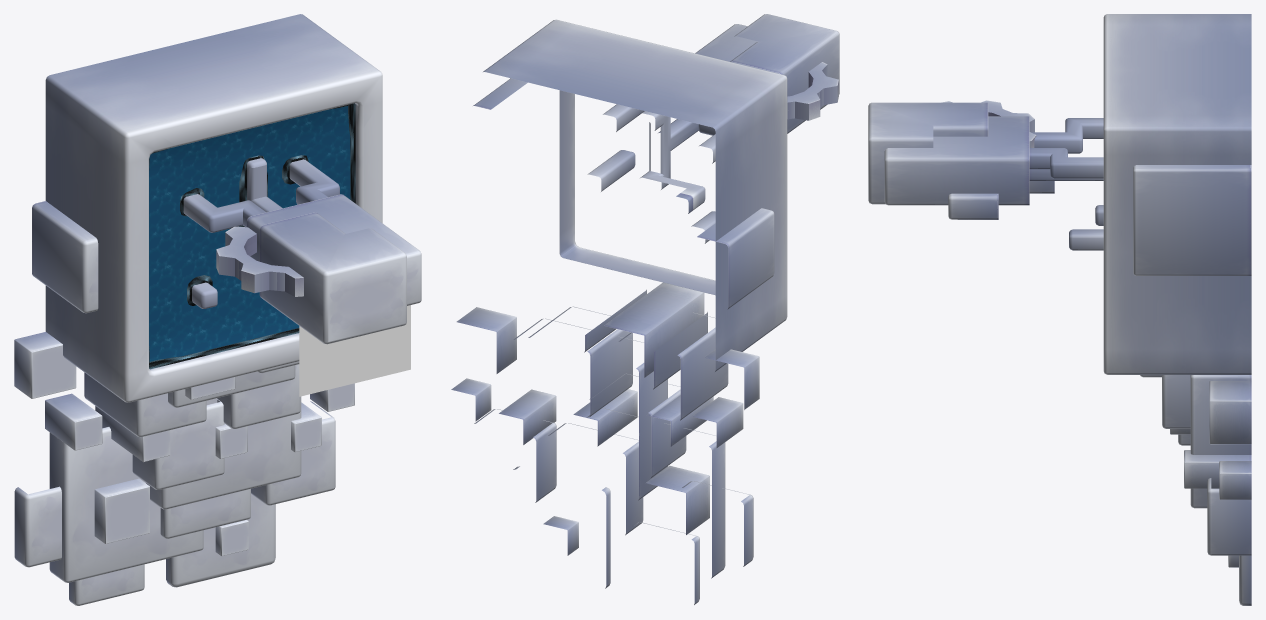
The model's file is sanctuary shrine.glb.
3 renders of one model, left to right at view 1: azimuth 30°, elevation 25°; view 2: azimuth 150°, elevation 25°; view 3: azimuth 270°, elevation 25°, orthographic. The views are drawn at different scales.
Visible parts, largest first — view 1: whitespace.sanctuary_shrine_setpiece-MeshNodes["sanctum_shri, whitespace.sanctuary_shrine_setpiece-MeshNodes["block_1unit_, whitespace.sanctuary_shrine_setpiece-MeshNodes["block_1unit0, whitespace.sanctuary_shrine_setpiece-MeshNodes["water_surfac, whitespace.sanctuary_shrine_setpiece-MeshNodes["Box39"], plane.plane_1unit-Mesh[0] (×3), whitespace.sanctuary_shrine_setpiece-MeshNodes["Object01"], whitespace.sanctuary_shrine_setpiece-MeshNodes["gear"], whitespace.sanctuary_shrine_setpiece-MeshNodes["water_edgewa; view 2: whitespace.sanctuary_shrine_setpiece-MeshNodes["sanctum_shri, whitespace.sanctuary_shrine_setpiece-MeshNodes["block_1unit0, whitespace.sanctuary_shrine_setpiece-MeshNodes["Box39"], whitespace.sanctuary_shrine_setpiece-MeshNodes["gear"]; view 3: whitespace.sanctuary_shrine_setpiece-MeshNodes["block_1unit0, whitespace.sanctuary_shrine_setpiece-MeshNodes["sanctum_shri, whitespace.sanctuary_shrine_setpiece-MeshNodes["Box39"], whitespace.sanctuary_shrine_setpiece-MeshNodes["gear"], whitespace.sanctuary_shrine_setpiece-MeshNodes["block_1unit_.
Part boxes in pixels (box(x1,y1,x2,y2)): whitespace.sanctuary_shrine_setpiece-MeshNodes["sanctum_shri: box(45, 14, 382, 402); whitespace.sanctuary_shrine_setpiece-MeshNodes["block_1unit_: box(27, 361, 335, 605); whitespace.sanctuary_shrine_setpiece-MeshNodes["block_1unit0: box(14, 158, 421, 605); whitespace.sanctuary_shrine_setpiece-MeshNodes["water_surfac: box(149, 106, 350, 361); whitespace.sanctuary_shrine_setpiece-MeshNodes["Box39"]: box(14, 332, 354, 556); plane.plane_1unit-Mesh[0] (×3): box(299, 305, 410, 396); whitespace.sanctuary_shrine_setpiece-MeshNodes["Object01"]: box(84, 240, 421, 344); whitespace.sanctuary_shrine_setpiece-MeshNodes["gear"]: box(216, 226, 303, 296); whitespace.sanctuary_shrine_setpiece-MeshNodes["water_edgewa: box(149, 103, 355, 369); whitespace.sanctuary_shrine_setpiece-MeshNodes["sanctum_shri: box(483, 19, 787, 371); whitespace.sanctuary_shrine_setpiece-MeshNodes["block_1unit0: box(473, 14, 839, 604); whitespace.sanctuary_shrine_setpiece-MeshNodes["Box39"]: box(451, 282, 759, 555); whitespace.sanctuary_shrine_setpiece-MeshNodes["gear"]: box(787, 62, 838, 120); whitespace.sanctuary_shrine_setpiece-MeshNodes["block_1unit0: box(869, 102, 1251, 605); whitespace.sanctuary_shrine_setpiece-MeshNodes["sanctum_shri: box(1103, 14, 1251, 374); whitespace.sanctuary_shrine_setpiece-MeshNodes["Box39"]: box(1170, 381, 1251, 567); whitespace.sanctuary_shrine_setpiece-MeshNodes["gear"]: box(941, 100, 1036, 147); whitespace.sanctuary_shrine_setpiece-MeshNodes["block_1unit_: box(1140, 375, 1239, 602).
Size of the model in its own units: 4.64 by 7.38 by 5.18.
9 materials, 8 textured.
